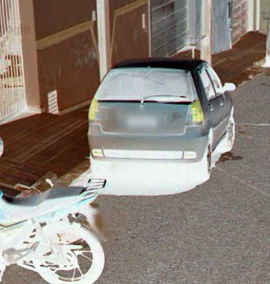car: (79, 38, 242, 176)
